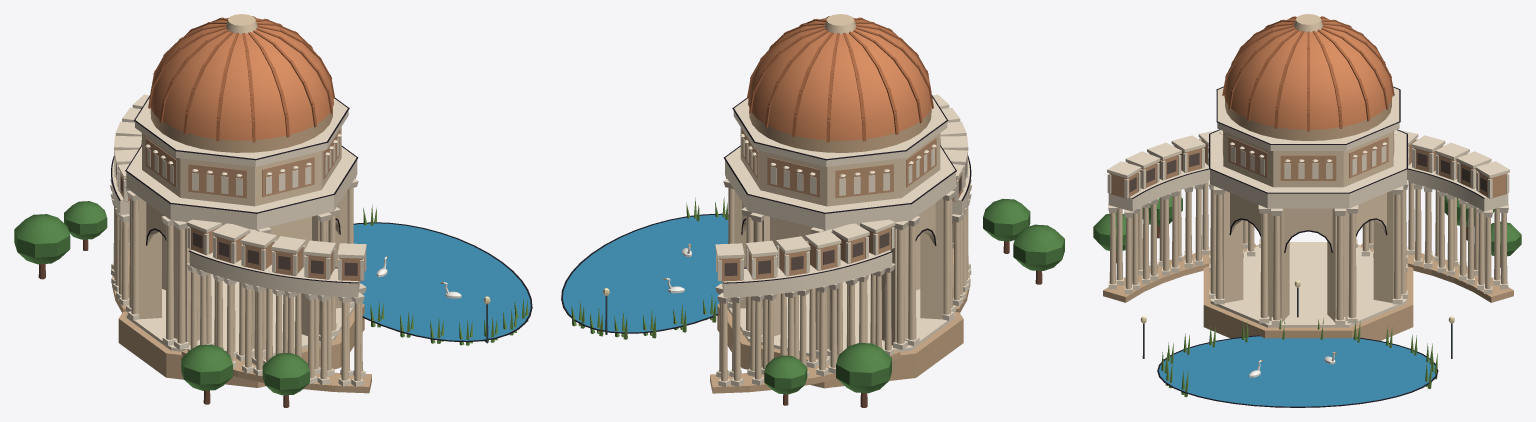
Rendered from palace_of_fine_arts.glb.
3 renders of one model, left to right at view 1: azimuth 30°, elevation 25°; view 2: azimuth 150°, elevation 25°; view 3: azimuth 270°, elevation 25°, orthographic. The views are drawn at different scales.
Visible parts, largest first — view 1: rotunda, colonnade, grounds; view 2: rotunda, colonnade, grounds; view 3: rotunda, colonnade, grounds.
Boxes of the visible parts, <box> form: rotunda: <box>118,14,364,387</box>; colonnade: <box>110,94,371,393</box>; grounds: <box>14,201,532,407</box>; rotunda: <box>717,14,963,388</box>; colonnade: <box>710,94,972,393</box>; grounds: <box>561,197,1064,407</box>; rotunda: <box>1203,14,1413,340</box>; colonnade: <box>1103,130,1513,302</box>; grounds: <box>1093,195,1521,407</box>.
Bounding box in the file's own units: 38.91 × 29.8 × 39.99.
